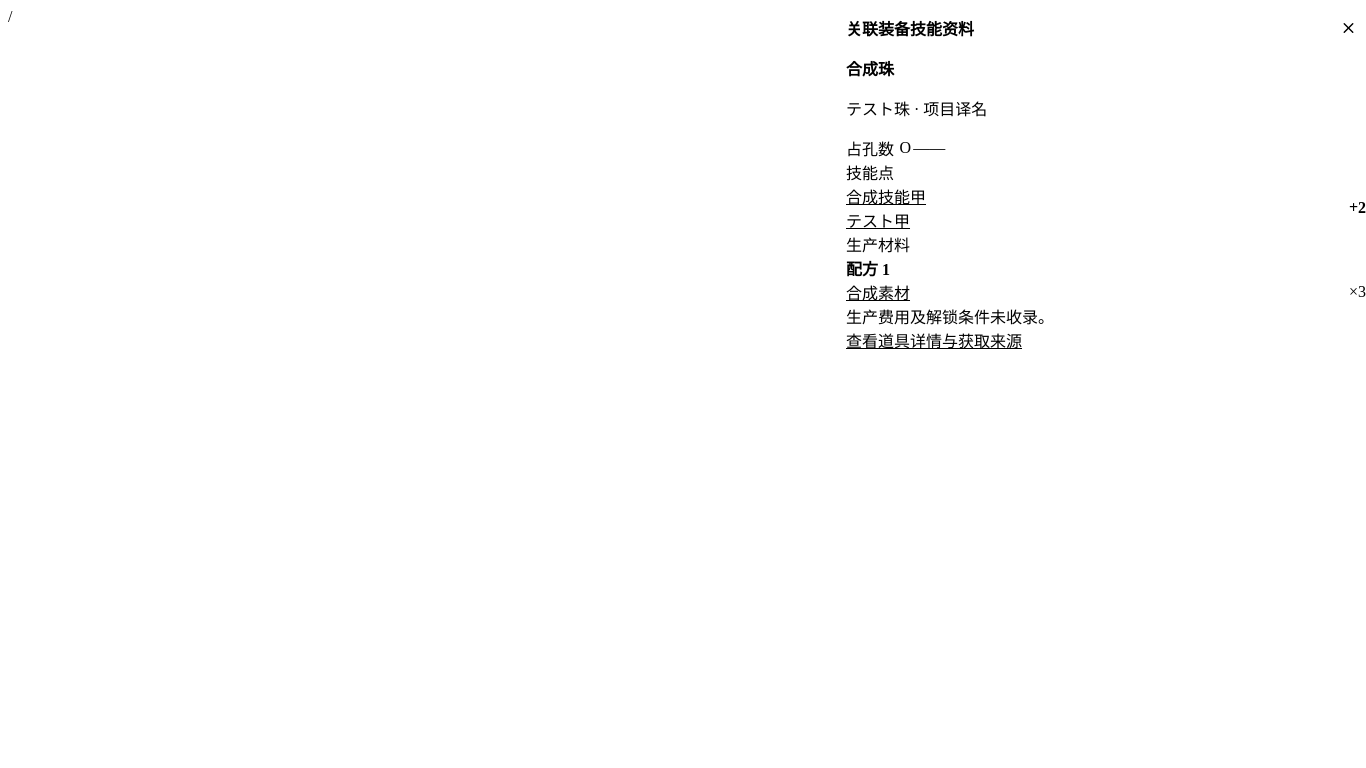
it: P2G skill catalog interface › portals equipment details and closes before navigating to a skill
This screenshot has width=1366, height=768.
Expected: the number of dialogs is 1, top-left (846, 10), bottom-right (1365, 352)
Click the button "合成技能甲 テスト甲" at x=886, y=208, box top-left (846, 184), bottom-right (926, 232)
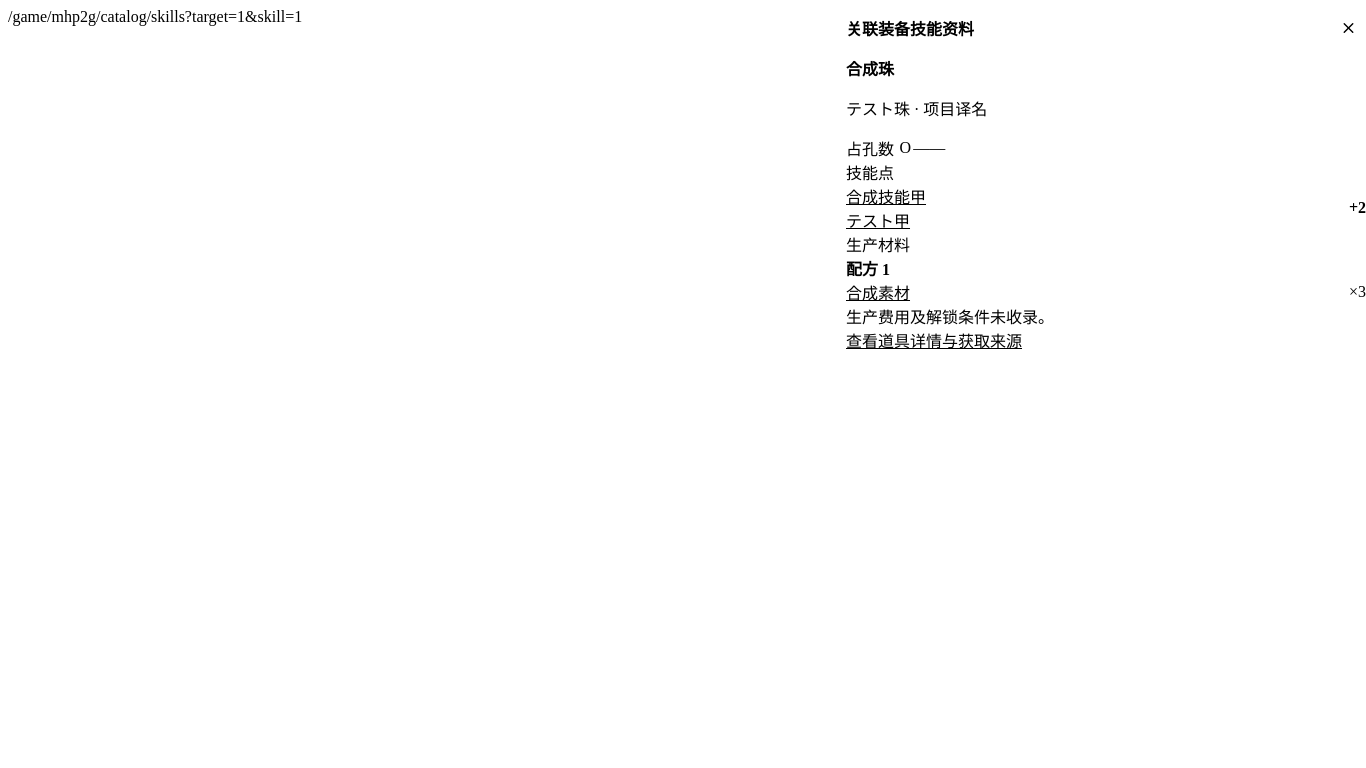
Expected: the text with test id "location" reads "/game/mhp2g/catalog/skills?target=1&skill=1", top-left (8, 8), bottom-right (302, 25)
